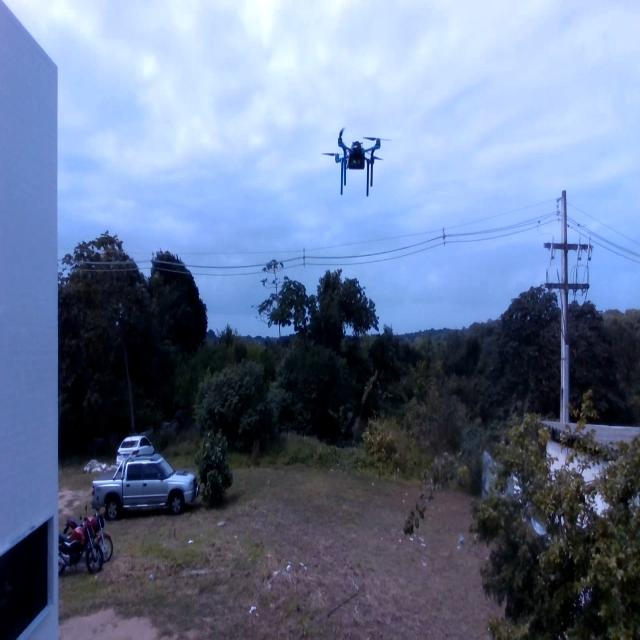-uav-: (318, 107, 394, 209)
